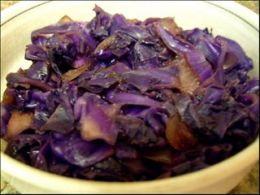cabbage: (2, 3, 258, 179)
